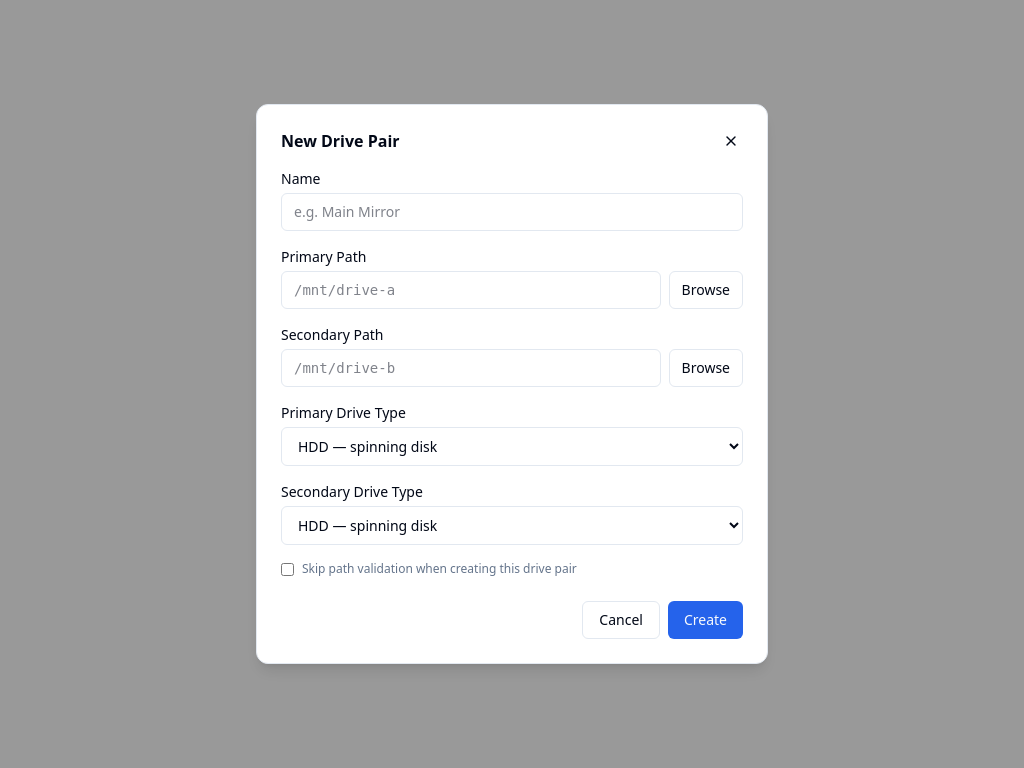
Test: DriveForm › shows axios message as fallback when API response has no error message
The width and height of the screenshot is (1024, 768).
Type "Mirror A" into the field with test id "drive-name-input".
click(512, 212); type("Mirror A")  # box 281,193 -> 743,231
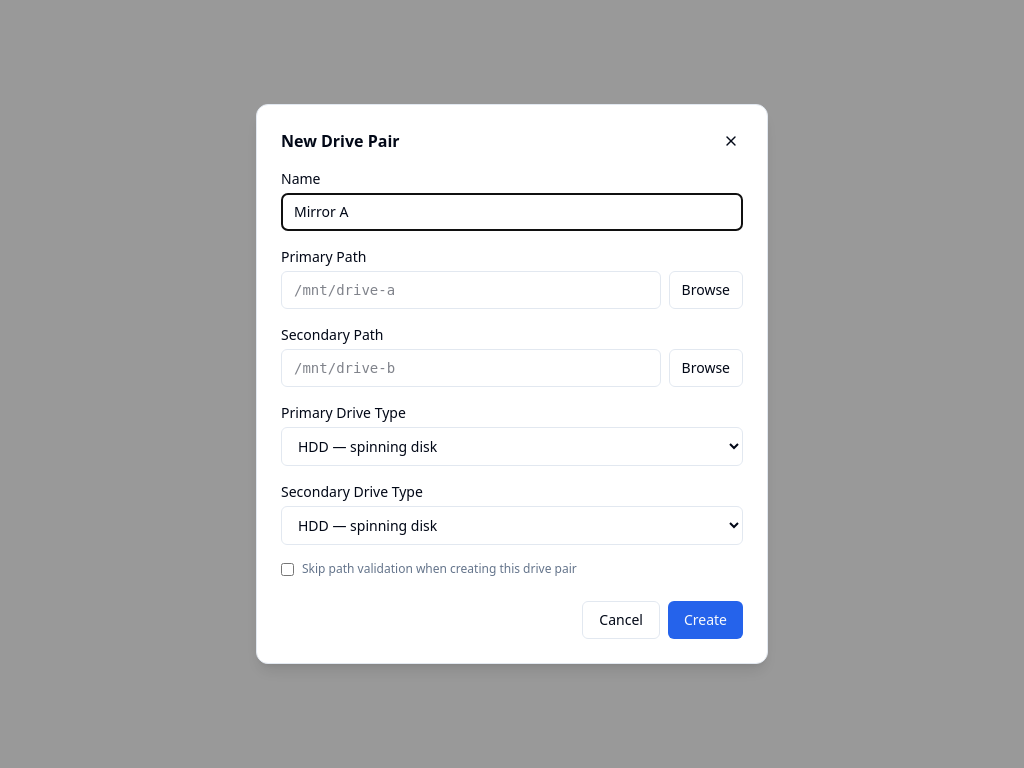
Type "/mnt/primary" into the field with test id "drive-primary-path-input".
click(471, 290); type("/mnt/primary")  # box 281,271 -> 661,309
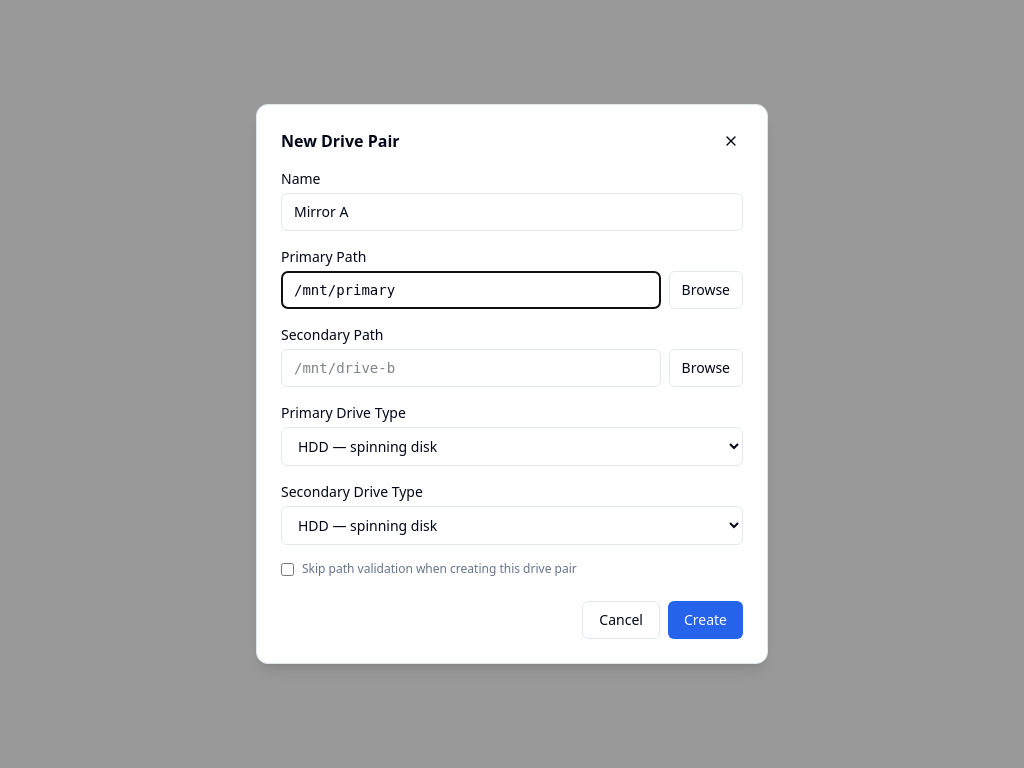
Type "/mnt/secondary" into the field with test id "drive-secondary-path-input".
click(471, 368); type("/mnt/secondary")  # box 281,349 -> 661,387
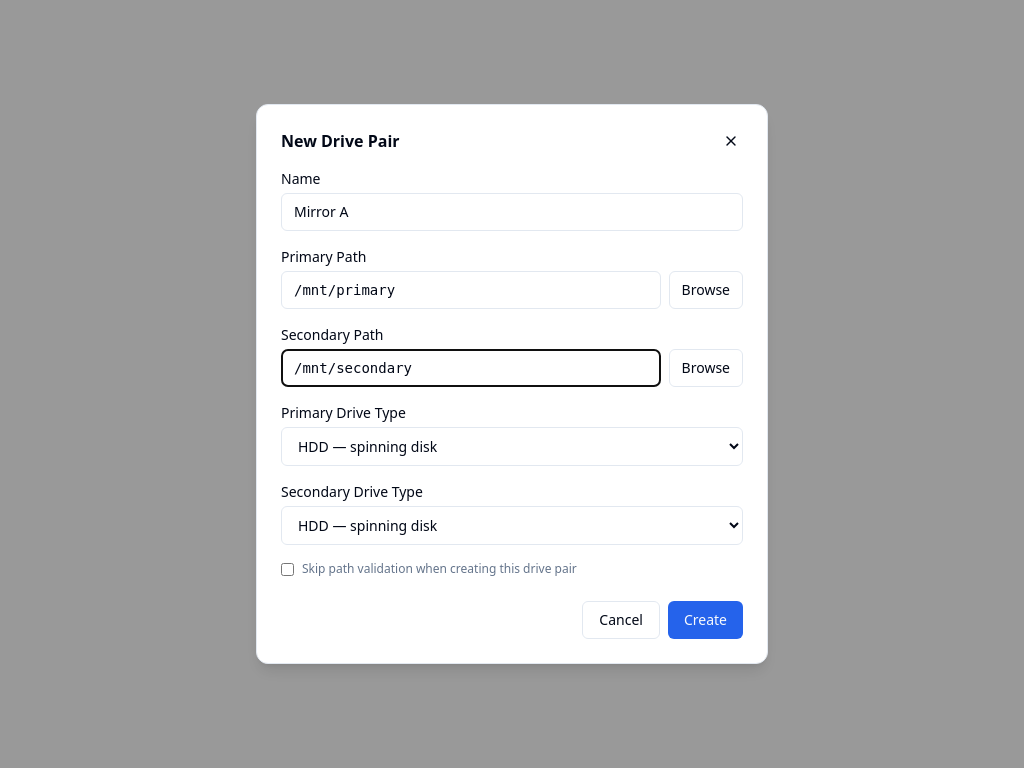
Click the button "Create".
click(705, 620)  # box 668,601 -> 743,639
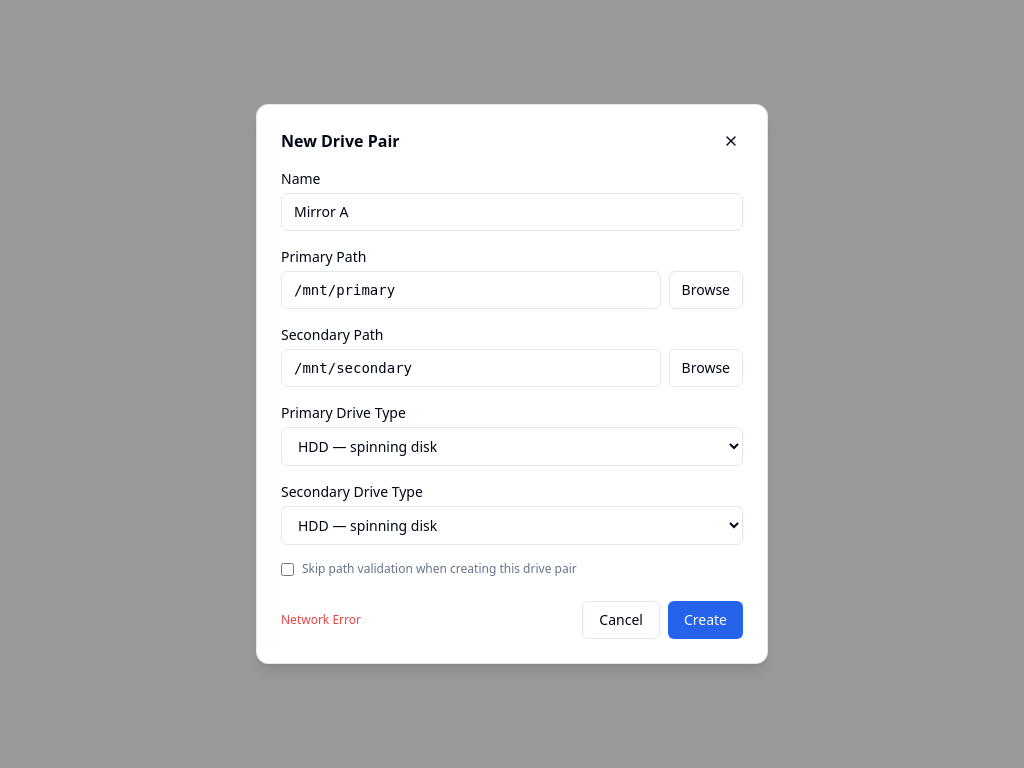
Now the text "Network Error" is shown, box 281,612 -> 361,628
